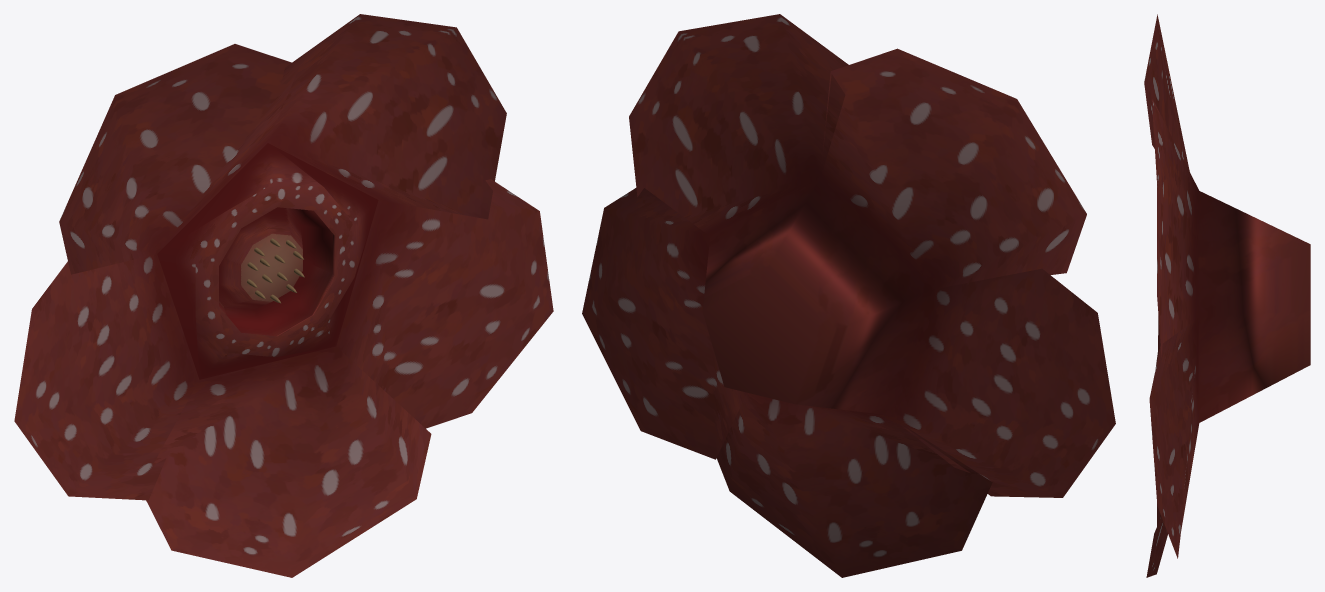
Rendered from art_3D model_Environment_Raflesia 22.fbx.
3 views of the same model, side by side, from view 1: azimuth 30°, elevation 25°; view 2: azimuth 150°, elevation 25°; view 3: azimuth 270°, elevation 25° (orthographic). The views are drawn at different scales.
Visible parts, largest first — view 1: Raflesiaa; view 2: Raflesiaa; view 3: Raflesiaa.
Part boxes in pixels (x1=…): Raflesiaa: x1=14, y1=14, x2=553, y2=577; Raflesiaa: x1=582, y1=14, x2=1115, y2=577; Raflesiaa: x1=1144, y1=14, x2=1310, y2=577.
Bounding box in the file's own units: 173 × 168 × 50.51.
Materials: 2 (2 with a texture image).
